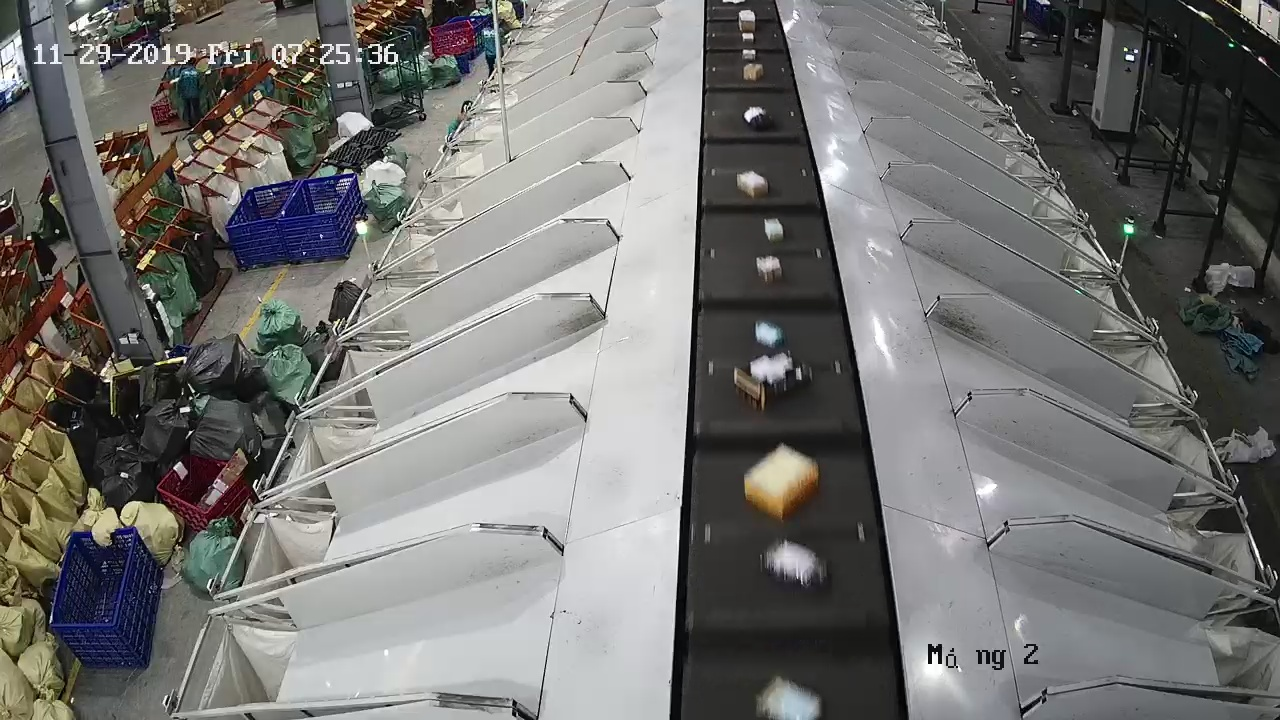parcel: (743, 442, 820, 524), (733, 349, 813, 412), (759, 535, 829, 593), (736, 170, 770, 200), (755, 254, 783, 285), (755, 321, 785, 349), (764, 218, 784, 243)
